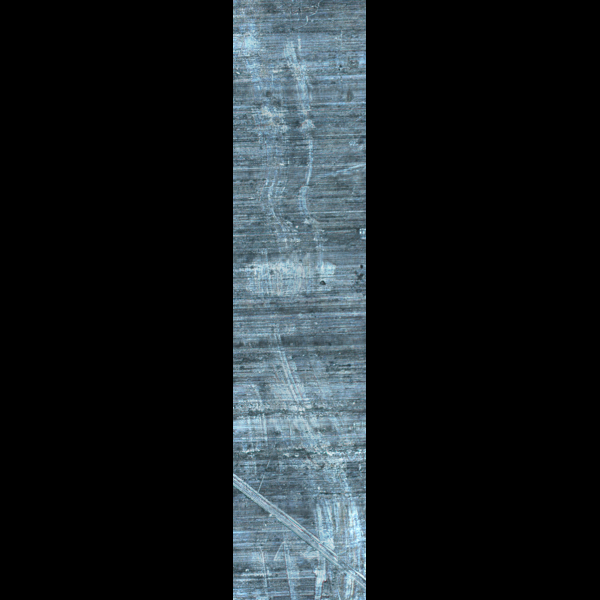d: (233, 465, 360, 595), (251, 29, 312, 297), (233, 326, 325, 462), (246, 240, 343, 304)
